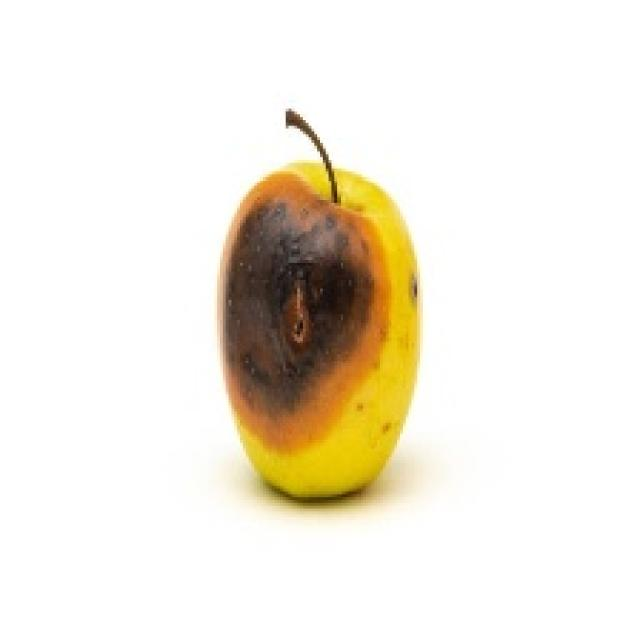rotten_apple: (220, 166, 418, 497)
